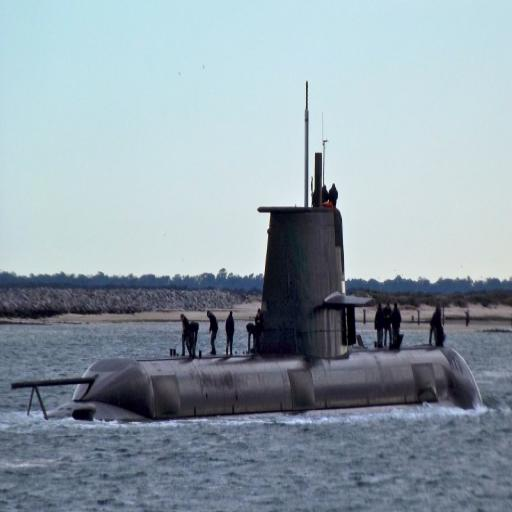submarine: (10, 85, 512, 418)
